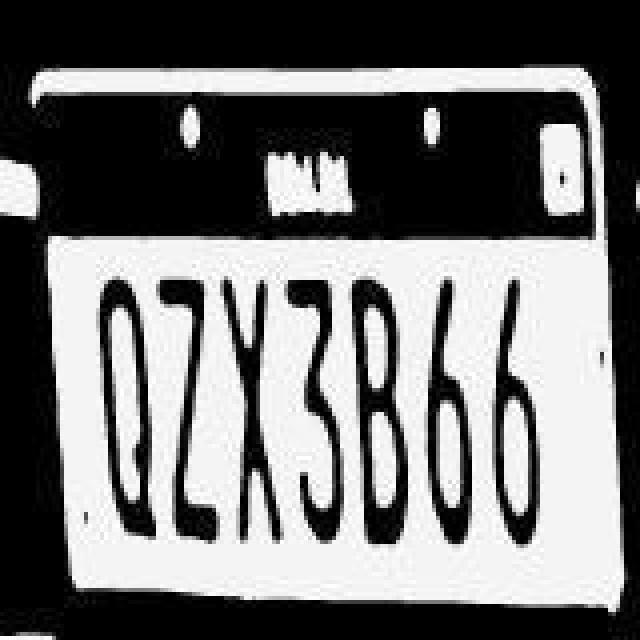3: (282, 268, 342, 548)
6: (420, 274, 476, 550), (488, 278, 544, 554)
B: (348, 274, 412, 550)
Q: (84, 270, 156, 546)
X: (216, 274, 280, 550)
Z: (162, 266, 222, 550)
